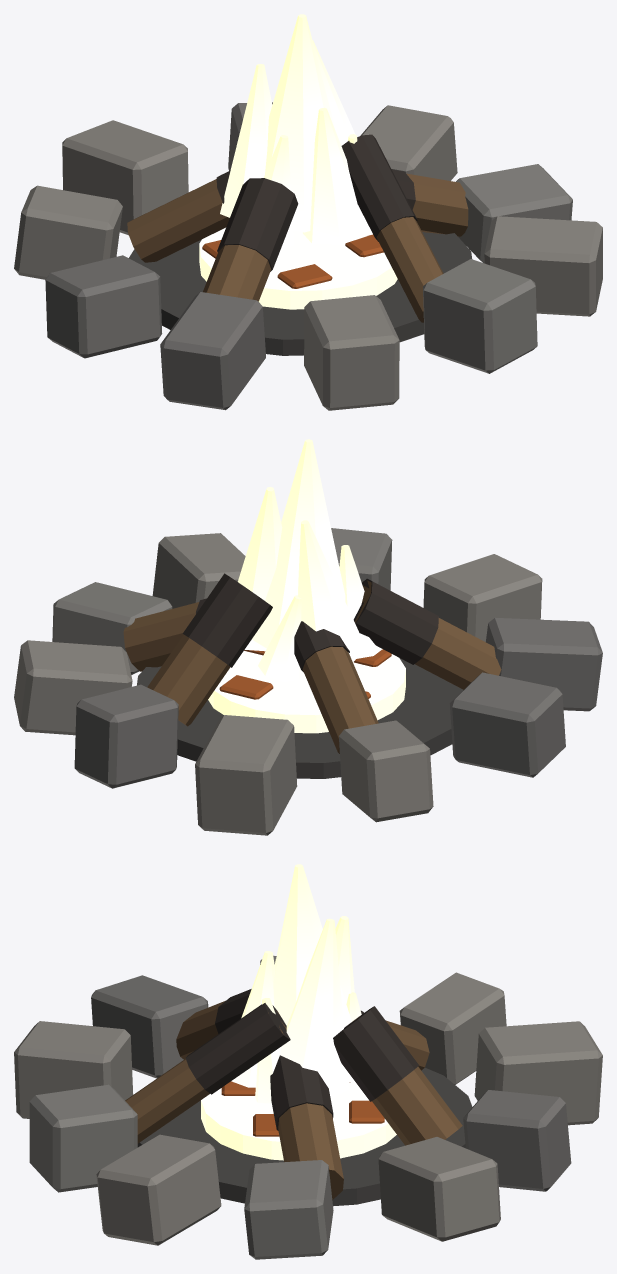
The model's file is SM_Campfire_A.fbx.
3 renders of one model, top to bottom at view 1: azimuth 30°, elevation 25°; view 2: azimuth 150°, elevation 25°; view 3: azimuth 270°, elevation 25°, orthographic.
Visible parts, largest first — view 1: SM_Campfire_A; view 2: SM_Campfire_A; view 3: SM_Campfire_A.
Part boxes in pixels (<box>): SM_Campfire_A: <box>14,14,602,410</box>; SM_Campfire_A: <box>14,439,602,835</box>; SM_Campfire_A: <box>14,864,602,1259</box>.
Size of what is drawn, in the model's own units: 115 by 111 by 60.29.
